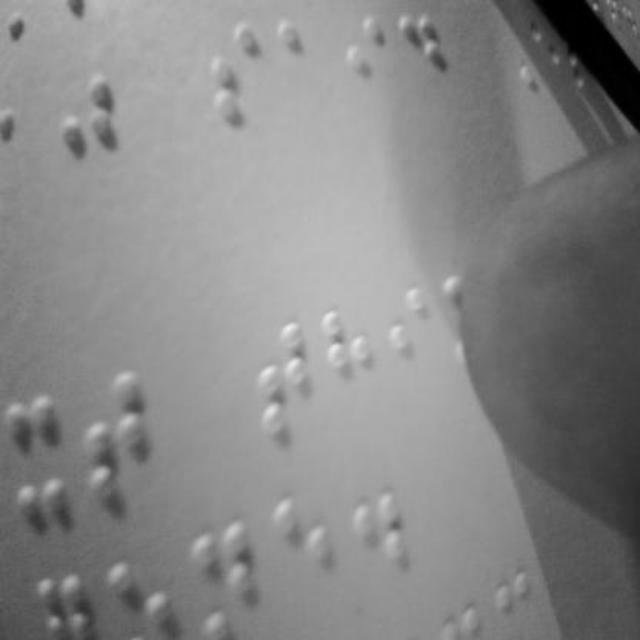braiile: (0, 388, 76, 534), (78, 361, 152, 502), (188, 514, 258, 640), (273, 490, 339, 614), (1, 58, 64, 176), (252, 320, 314, 438), (206, 17, 268, 132), (382, 277, 440, 395), (319, 300, 377, 416), (396, 3, 448, 107), (275, 9, 327, 107), (342, 12, 388, 112)
